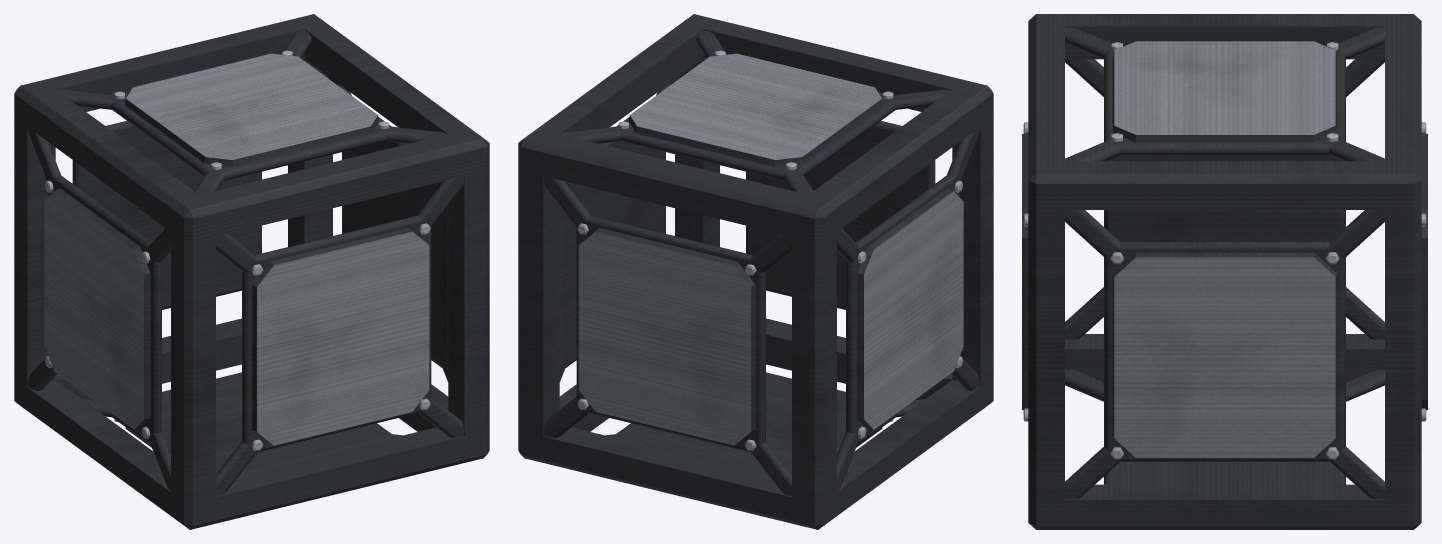
Rendered from R4B_TrussCube.glb.
3 views of the same model, side by side, from view 1: azimuth 30°, elevation 25°; view 2: azimuth 150°, elevation 25°; view 3: azimuth 270°, elevation 25° (orthographic). The views are drawn at different scales.
Parts seen in each view (by area): view 1: R4B_TrussCube; view 2: R4B_TrussCube; view 3: R4B_TrussCube.
Boxes of the visible parts, x1,y1,x2,y2 form: R4B_TrussCube: [14, 14, 489, 529]; R4B_TrussCube: [518, 14, 993, 529]; R4B_TrussCube: [1022, 14, 1427, 529].
Size of the model in its own units: 0.52 by 0.52 by 0.52.
3 materials, 3 textured.
